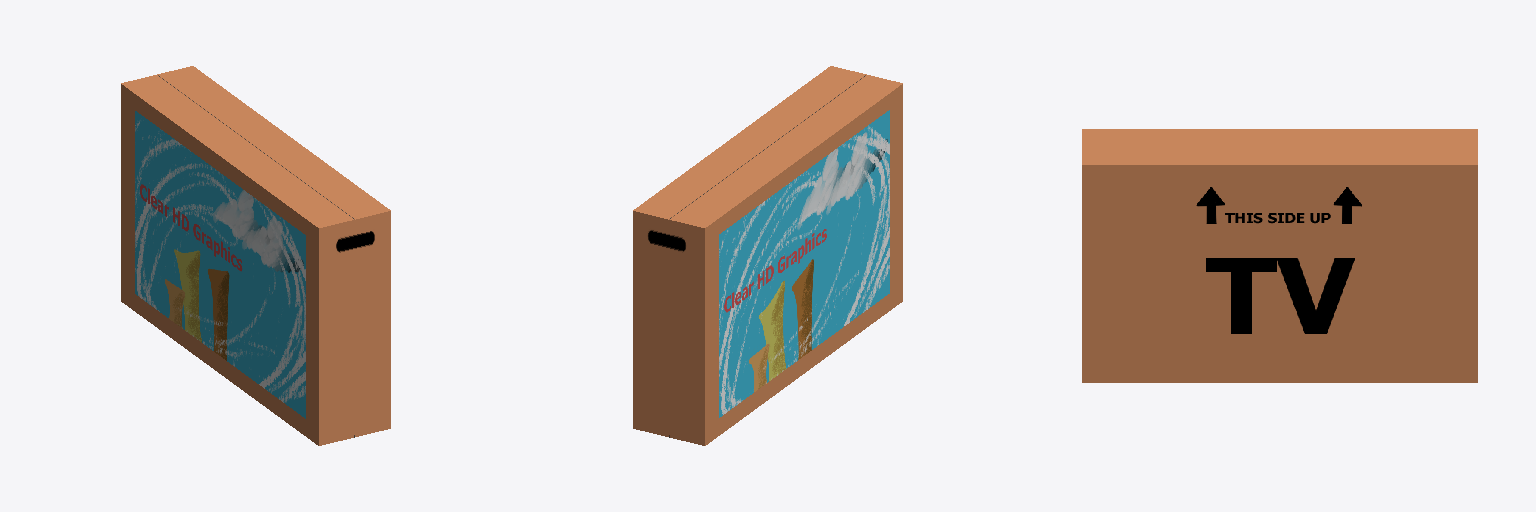
3 views of the same model, side by side, from view 1: azimuth 30°, elevation 25°; view 2: azimuth 150°, elevation 25°; view 3: azimuth 270°, elevation 25° (orthographic).
Visible parts, largest first — view 1: Cube; view 2: Cube; view 3: Cube.
Part boxes in pixels (left/top/right/bottom): Cube: left=121, top=66, right=390, bottom=445; Cube: left=633, top=66, right=902, bottom=445; Cube: left=1082, top=129, right=1477, bottom=382.
Size of the model in its own units: 0.4222 by 1.21 by 2.
Materials: 1 (1 with a texture image).